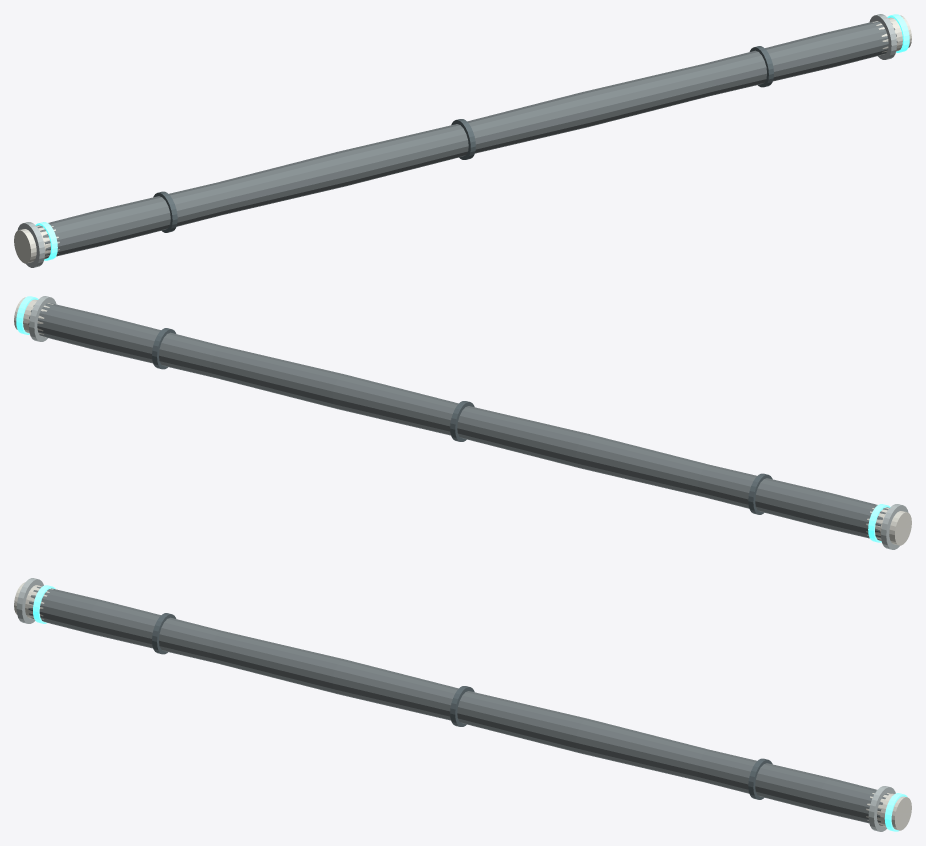
Rendered from s7-i03-hose-straight-2p0m.glb.
3 renders of one model, top to bottom at view 1: azimuth 30°, elevation 25°; view 2: azimuth 150°, elevation 25°; view 3: azimuth 330°, elevation 25°, orthographic.
Visible parts, largest first — view 1: 000_actual_curved_hose_swept_3d, 001_end_0_sealing_socket; view 2: 000_actual_curved_hose_swept_3d, 001_end_0_sealing_socket; view 3: 000_actual_curved_hose_swept_3d, 004_end_1_sealing_socket.
Boxes of the visible parts, <box> form: 000_actual_curved_hose_swept_3d: <box>36,21,897,258</box>; 001_end_0_sealing_socket: <box>14,223,59,263</box>; 000_actual_curved_hose_swept_3d: <box>28,303,889,540</box>; 001_end_0_sealing_socket: <box>866,505,911,545</box>; 000_actual_curved_hose_swept_3d: <box>28,585,891,825</box>; 004_end_1_sealing_socket: <box>866,790,911,830</box>.
Size of the model in its own units: 2.07 by 0.0935 by 0.0935.
